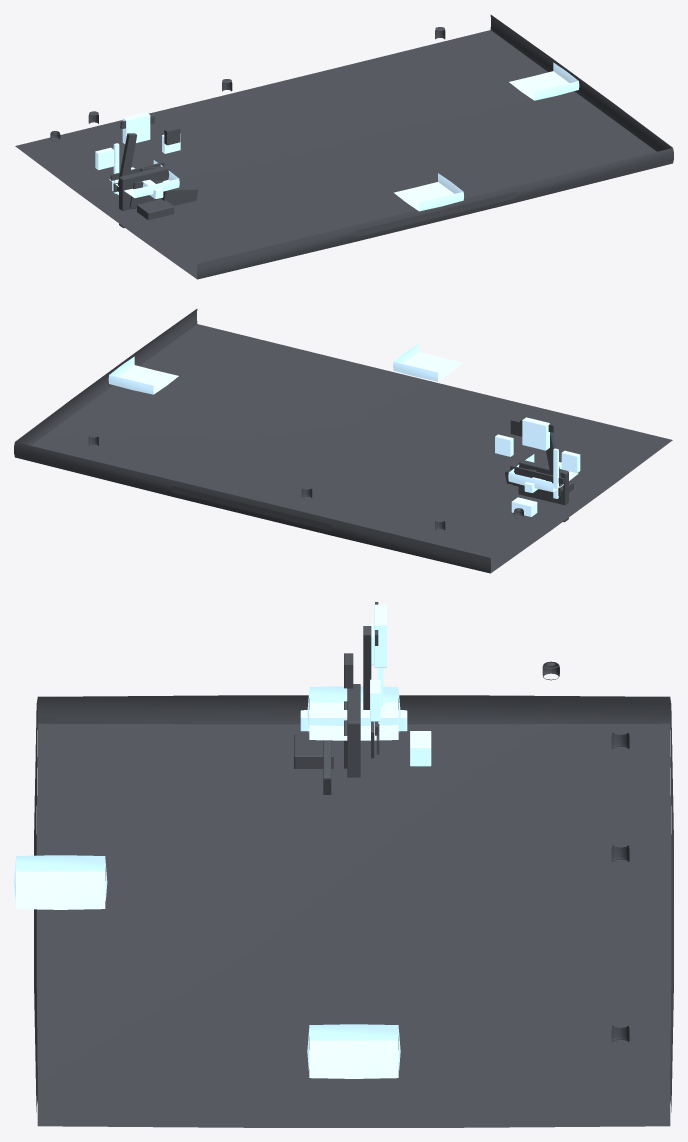
Rendered from _greeble_hazard_strobe_elite_export.glb.
The picture shows the model from 3 angles, top to bottom: view 1: azimuth 30°, elevation 25°; view 2: azimuth 150°, elevation 25°; view 3: azimuth 270°, elevation 25°; orthographic projection. The views are drawn at different scales.
Visible parts, largest first — view 1: Nav_Base, greeble_nav_lights_Material_Accent_Merged, DET_mount_flange, DET_strobe_housing, DET_mount_bracket, DET_weather_scrub, DET_wire_channel, greeble_nav_lights_Material_Mechanical_Merged; view 2: Nav_Base, greeble_nav_lights_Material_Accent_Merged, DET_mount_flange, DET_strobe_housing, greeble_nav_lights_Material_Mechanical_Merged; view 3: Nav_Base, greeble_nav_lights_Material_Accent_Merged, DET_hazard_stripe, greeble_nav_lights_Material_Mechanical_Merged, DET_mount_flange, DET_mount_bracket, DET_strobe_housing, DET_strobe_lens.
Part boxes in pixels (box(x1,y1,x2,y2)): Nav_Base: box(15, 15, 673, 279); greeble_nav_lights_Material_Accent_Merged: box(109, 62, 579, 211); DET_mount_flange: box(119, 166, 169, 228); DET_strobe_housing: box(122, 112, 150, 143); DET_mount_bracket: box(137, 198, 174, 219); DET_weather_scrub: box(162, 187, 198, 205); DET_wire_channel: box(117, 133, 136, 191); greeble_nav_lights_Material_Mechanical_Merged: box(50, 27, 445, 141); Nav_Base: box(14, 309, 672, 573); greeble_nav_lights_Material_Accent_Merged: box(108, 343, 578, 491); DET_mount_flange: box(518, 460, 568, 522); DET_strobe_housing: box(522, 417, 549, 450); greeble_nav_lights_Material_Mechanical_Merged: box(88, 433, 523, 530); Nav_Base: box(34, 695, 673, 1127); greeble_nav_lights_Material_Accent_Merged: box(14, 686, 400, 1078); DET_hazard_stripe: box(300, 710, 407, 731); greeble_nav_lights_Material_Mechanical_Merged: box(542, 661, 629, 1042); DET_mount_flange: box(347, 684, 360, 777); DET_mount_bracket: box(294, 734, 333, 768); DET_strobe_housing: box(374, 604, 387, 667); DET_strobe_lens: box(410, 731, 431, 766).
Bounding box in the file's own units: 3.61 × 0.715 × 2.48.
